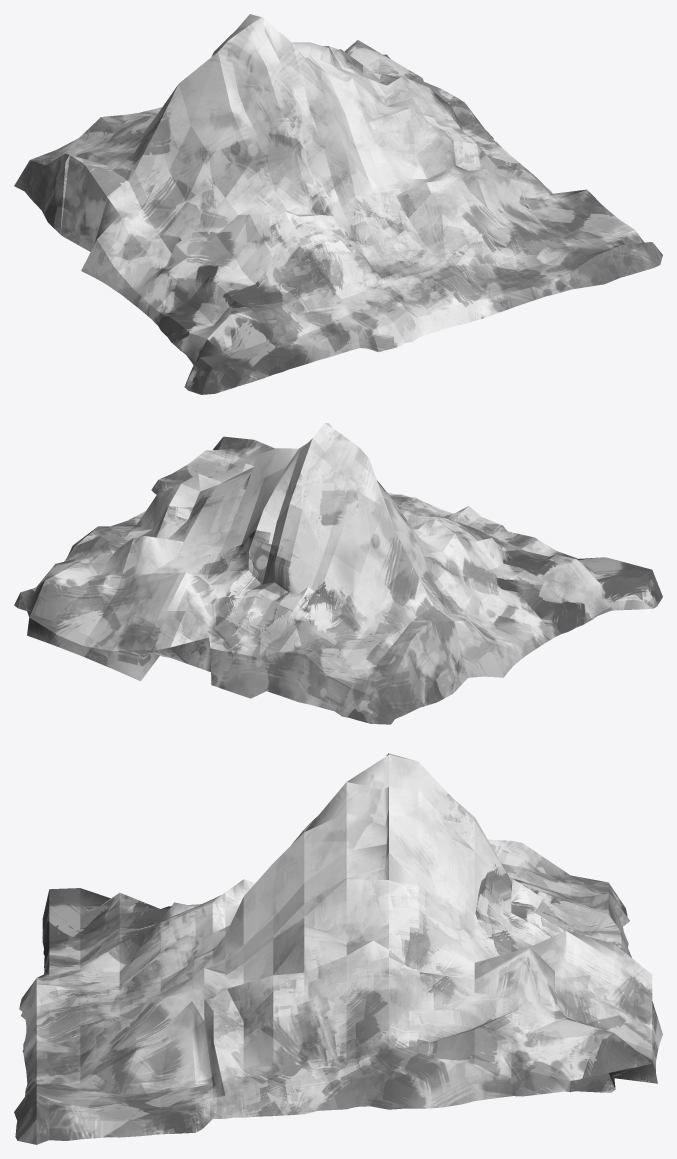
Rendered from mountain.fbx.
The picture shows the model from 3 angles, top to bottom: view 1: azimuth 30°, elevation 25°; view 2: azimuth 150°, elevation 25°; view 3: azimuth 270°, elevation 25°; orthographic projection. The views are drawn at different scales.
Parts seen in each view (by area): view 1: pCube2; view 2: pCube2; view 3: pCube2.
Boxes of the visible parts, <box> form: pCube2: <box>14,14,662,394</box>; pCube2: <box>14,423,662,724</box>; pCube2: <box>14,753,662,1144</box>.
Size of the model in its own units: 171 by 81.47 by 172.
Materials: 1 (1 with a texture image).
